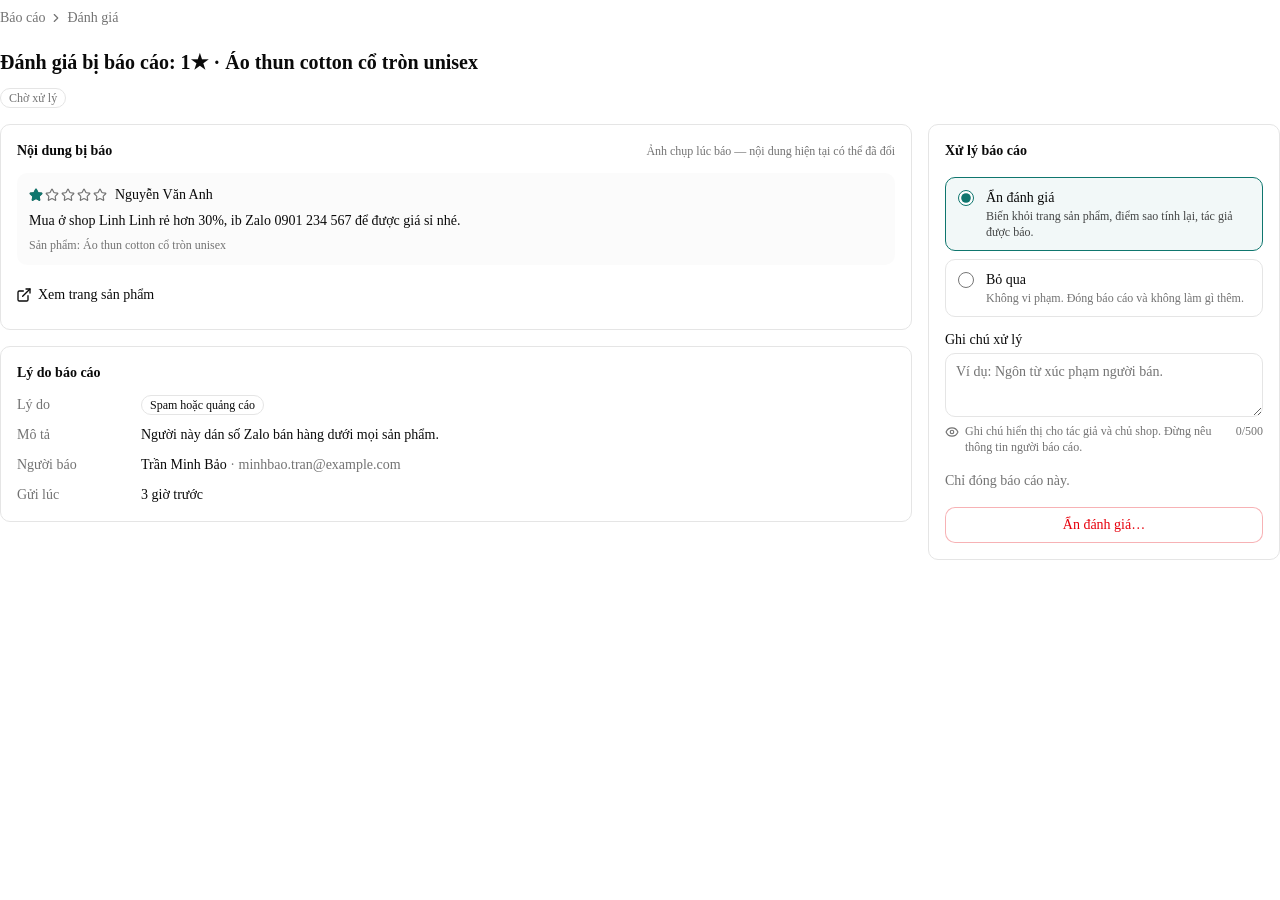
Scenario: AdminReportDetailContainer (trang chi tiết — phương án A) › luồng xử lý › bắt đầu một lần xử lý mới thì câu lỗi cũ biến mất
Check: the heading "Xử lý báo cáo" is shown, box 945,143 -> 1027,158
Step 1. Type "Lý do" into the text box labelled "Ghi chú xử lý" → (1104, 385), box 945,353 -> 1263,417
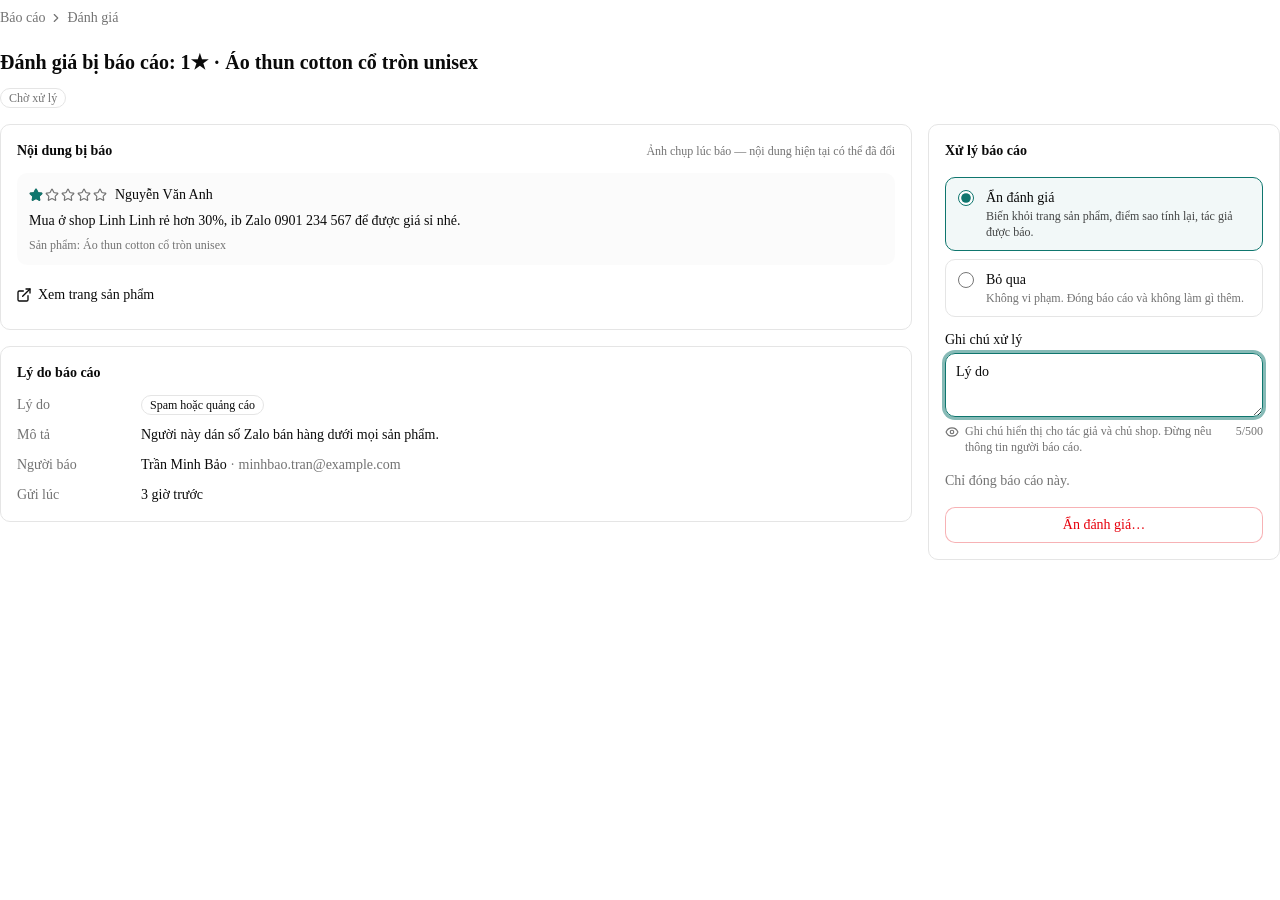
Step 2. Click the button "Ẩn đánh giá…" → (1104, 525), box 945,507 -> 1263,543
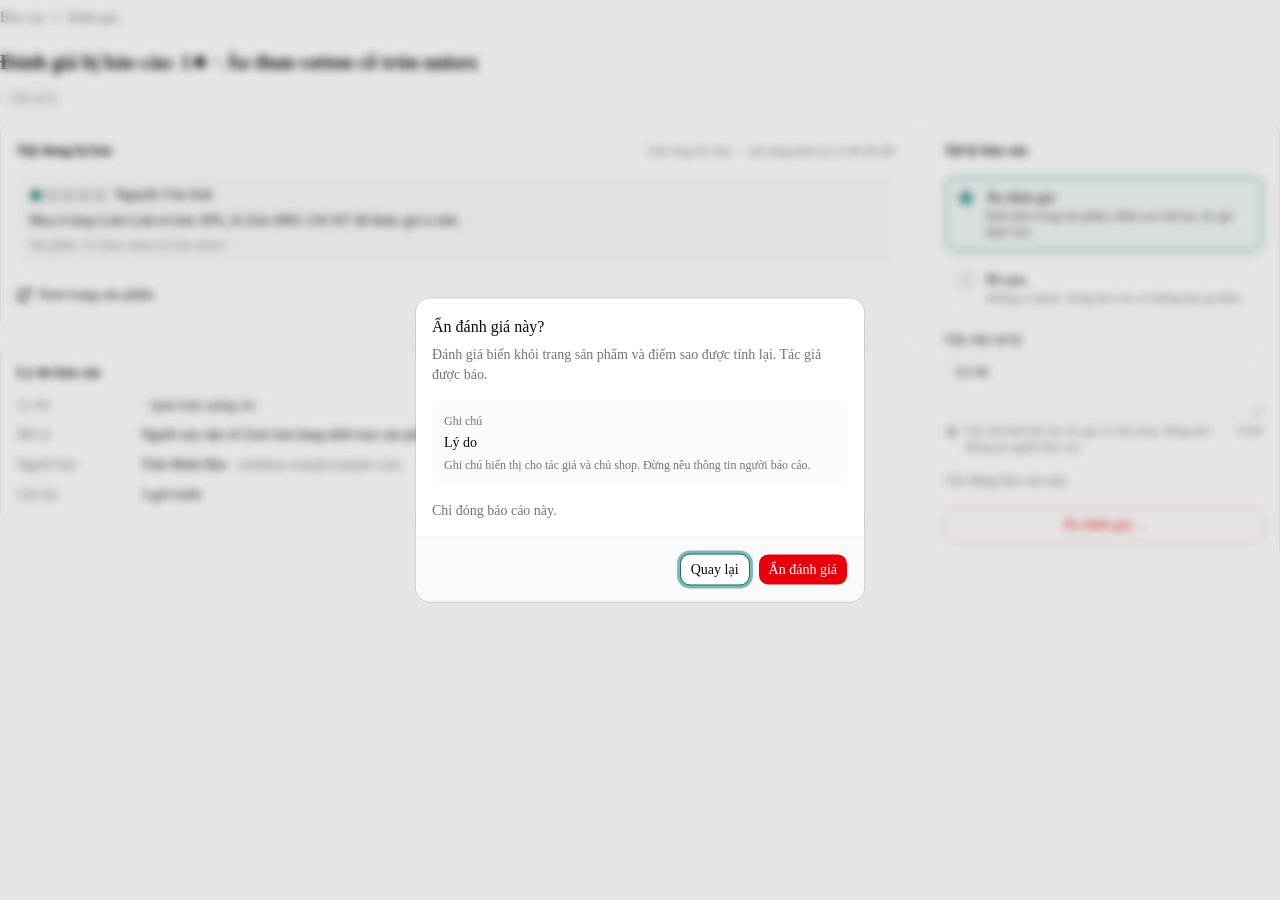
Step 3. Click the button "Ẩn đánh giá" → (803, 570), box 758,554 -> 848,586
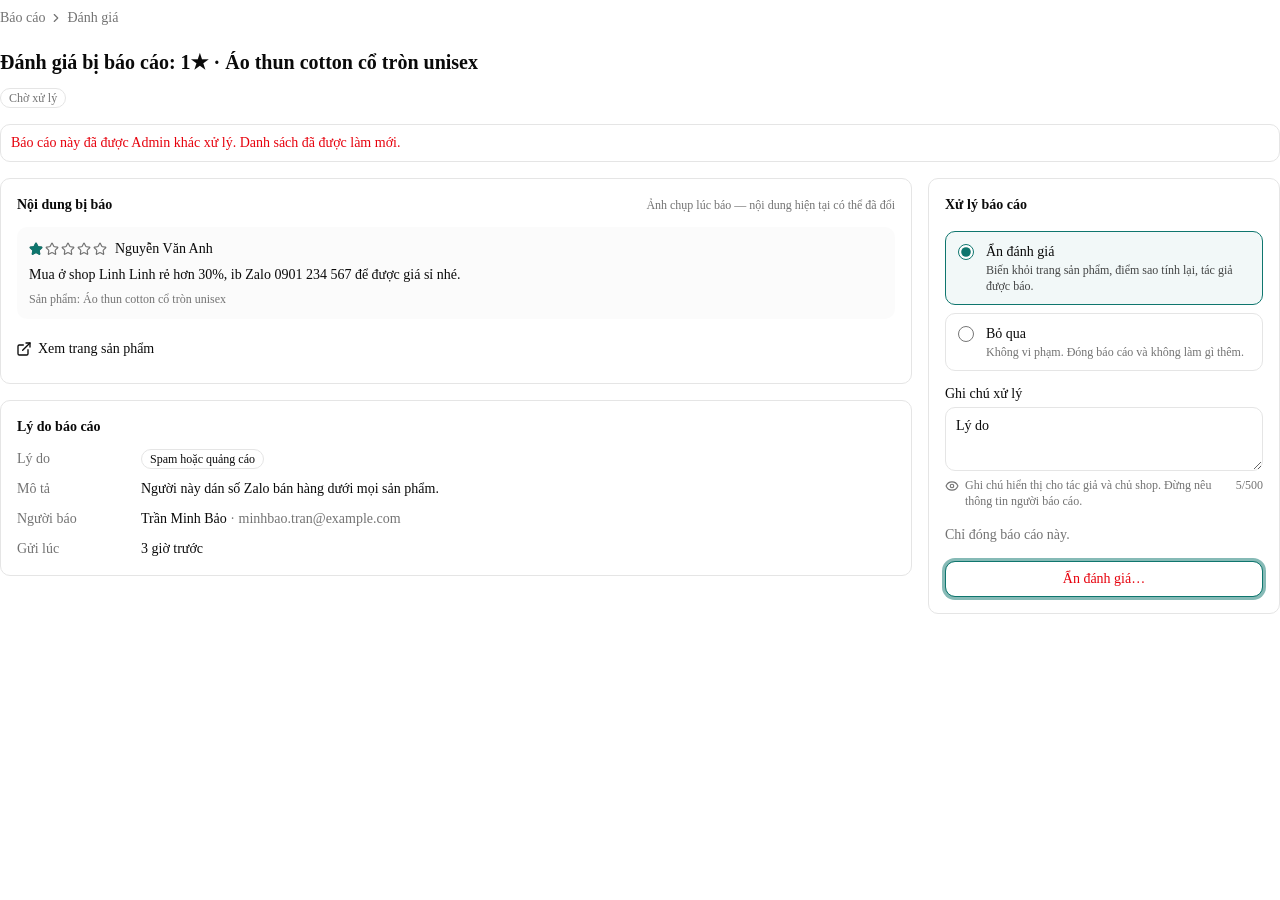
Check: the message "Báo cáo này đã được Admin khác xử lý. Danh sách đã được làm mới." is shown, box 0,124 -> 1279,162
Step 4. Click the button "Ẩn đánh giá…" → (1104, 579), box 945,561 -> 1263,597
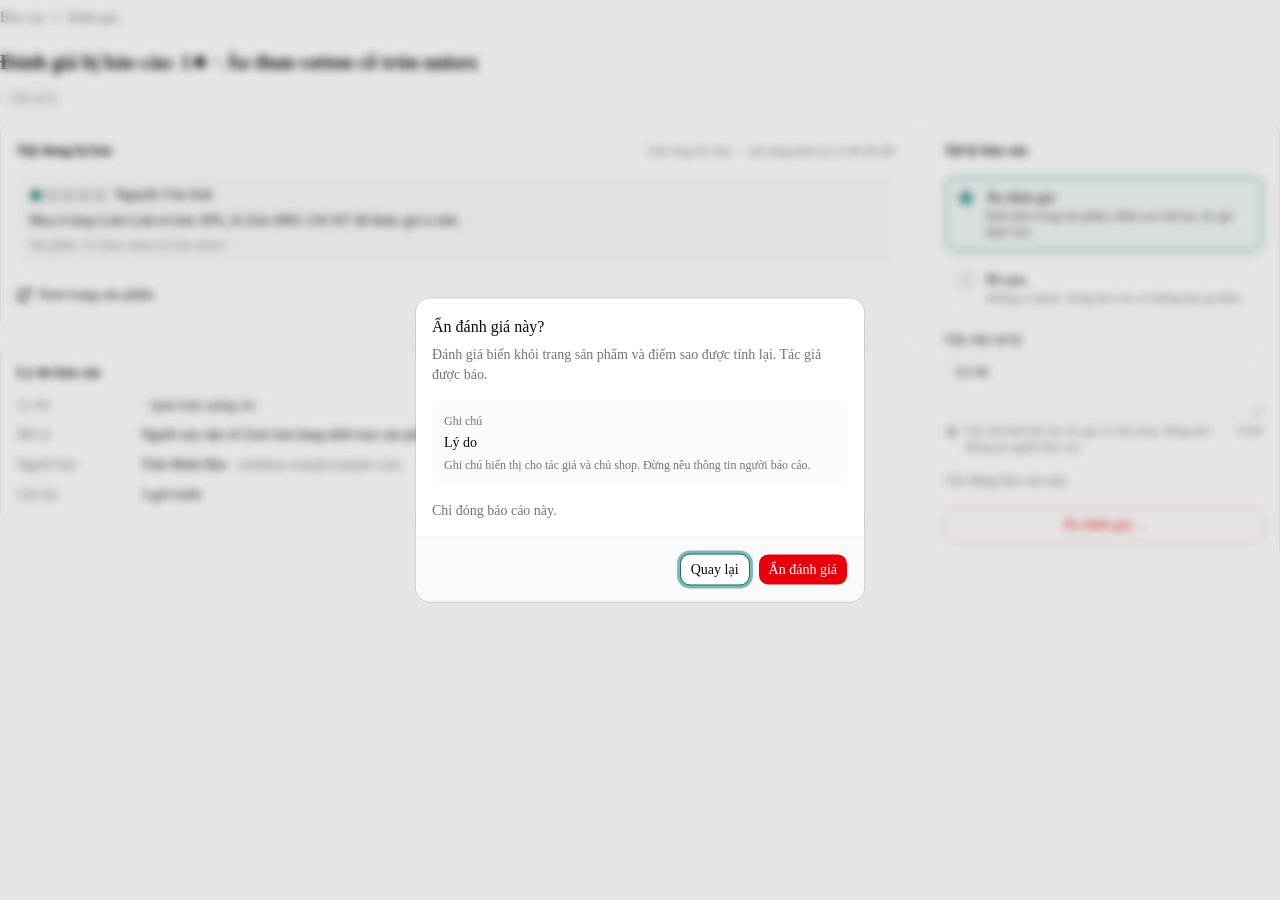
Check: the dialog is shown, box 416,298 -> 864,602
Check: the message "Báo cáo này đã được Admin khác xử lý. Danh sách đã được làm mới." is gone
